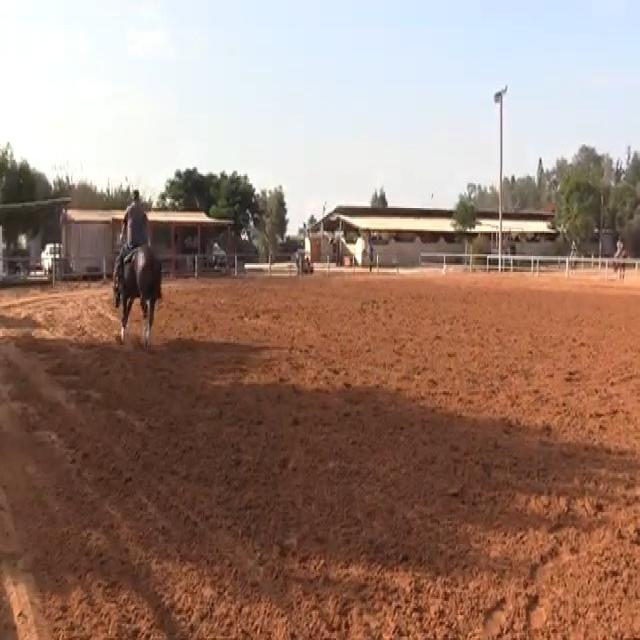horse: (111, 240, 163, 350)
